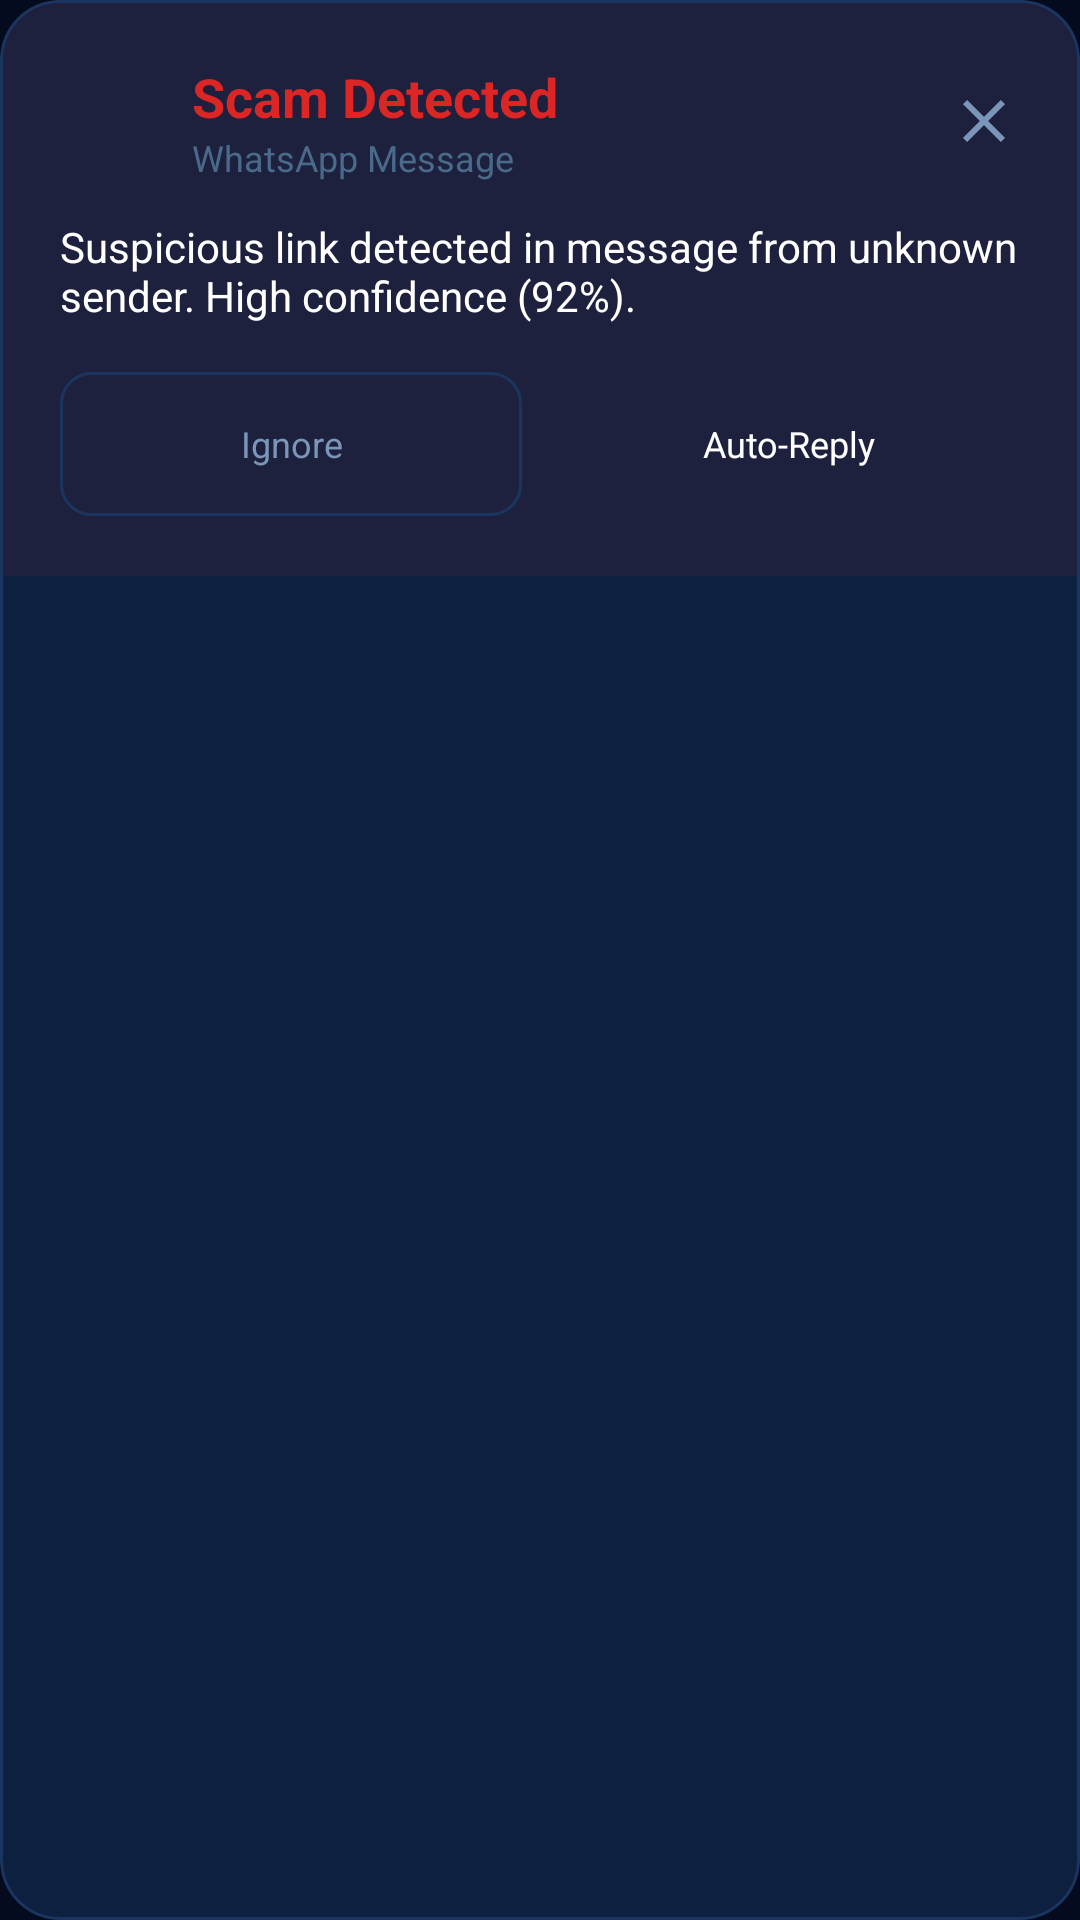

Icon bounding boxes for this 1080w x 1920h phone screenshot, format (x1, y1, x2, y2):
Close: (963, 100, 1005, 142)
